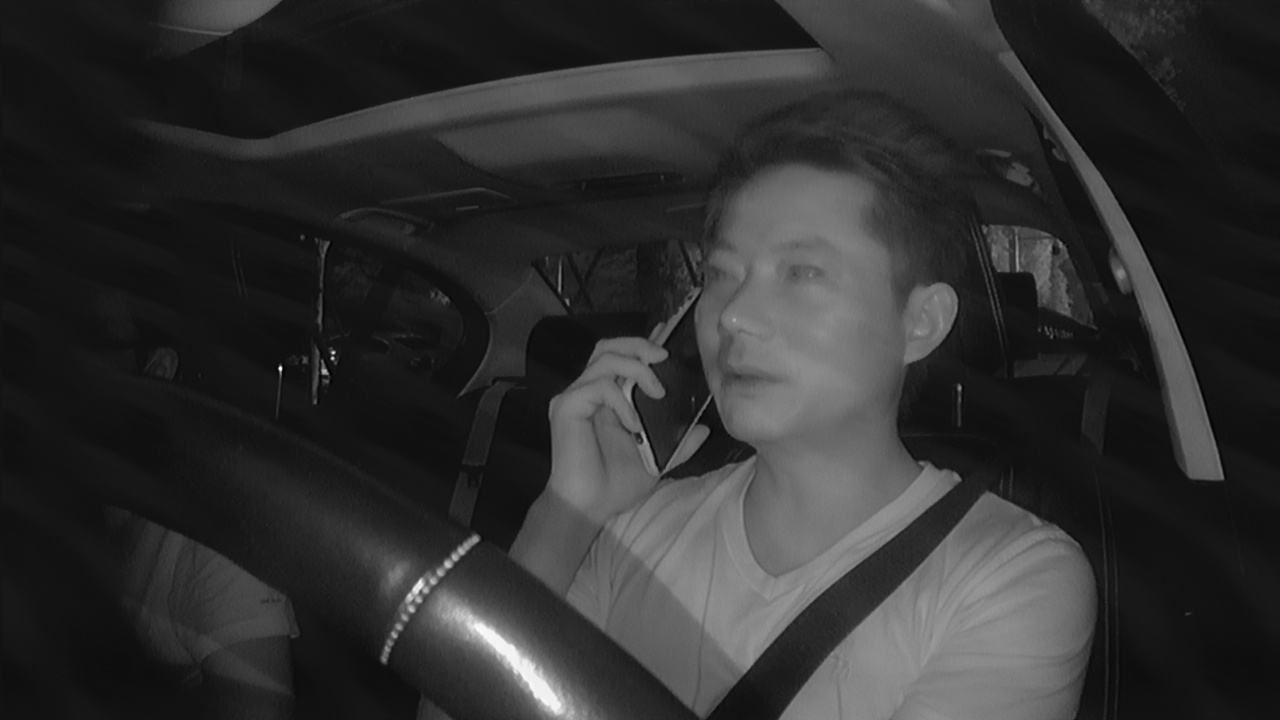hand: (543, 319, 711, 526)
